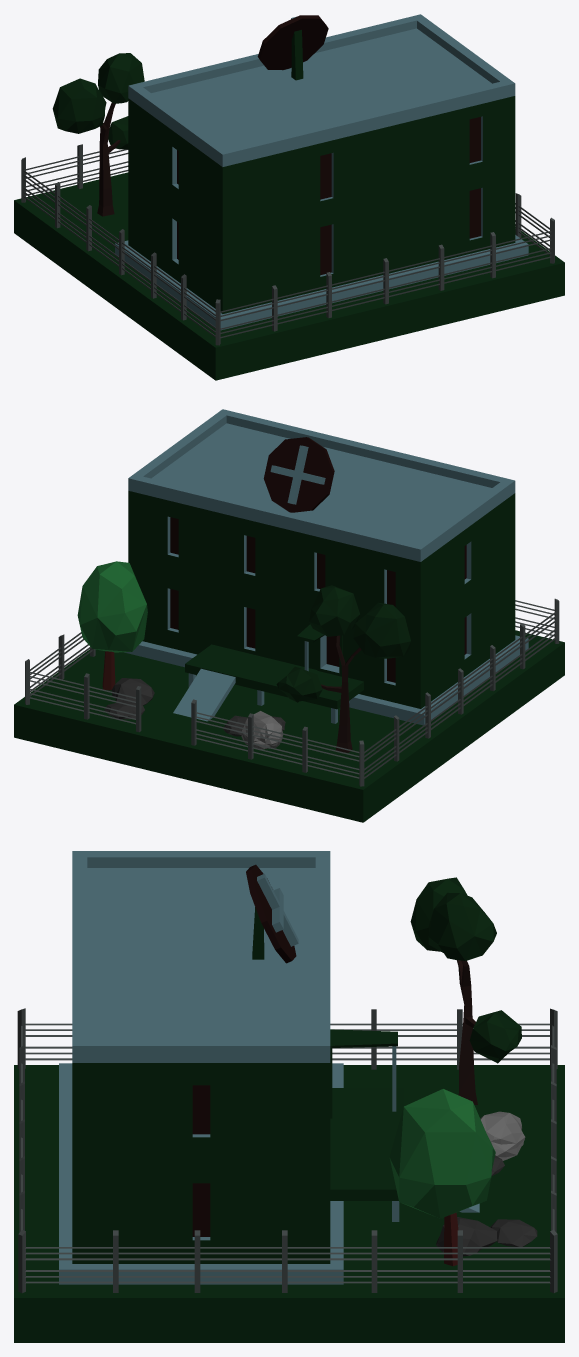
Rendered from Hospital.FBX.
The picture shows the model from 3 angles, top to bottom: view 1: azimuth 30°, elevation 25°; view 2: azimuth 150°, elevation 25°; view 3: azimuth 270°, elevation 25°; orthographic projection. The views are drawn at different scales.
Visible parts, largest first — view 1: Hospital; view 2: Hospital; view 3: Hospital.
Boxes of the visible parts, x1=… form: Hospital: x1=14, y1=14, x2=564, y2=380; Hospital: x1=14, y1=409, x2=564, y2=822; Hospital: x1=14, y1=851, x2=564, y2=1342.
Bounding box in the file's own units: 10055 × 7111 × 10000.
